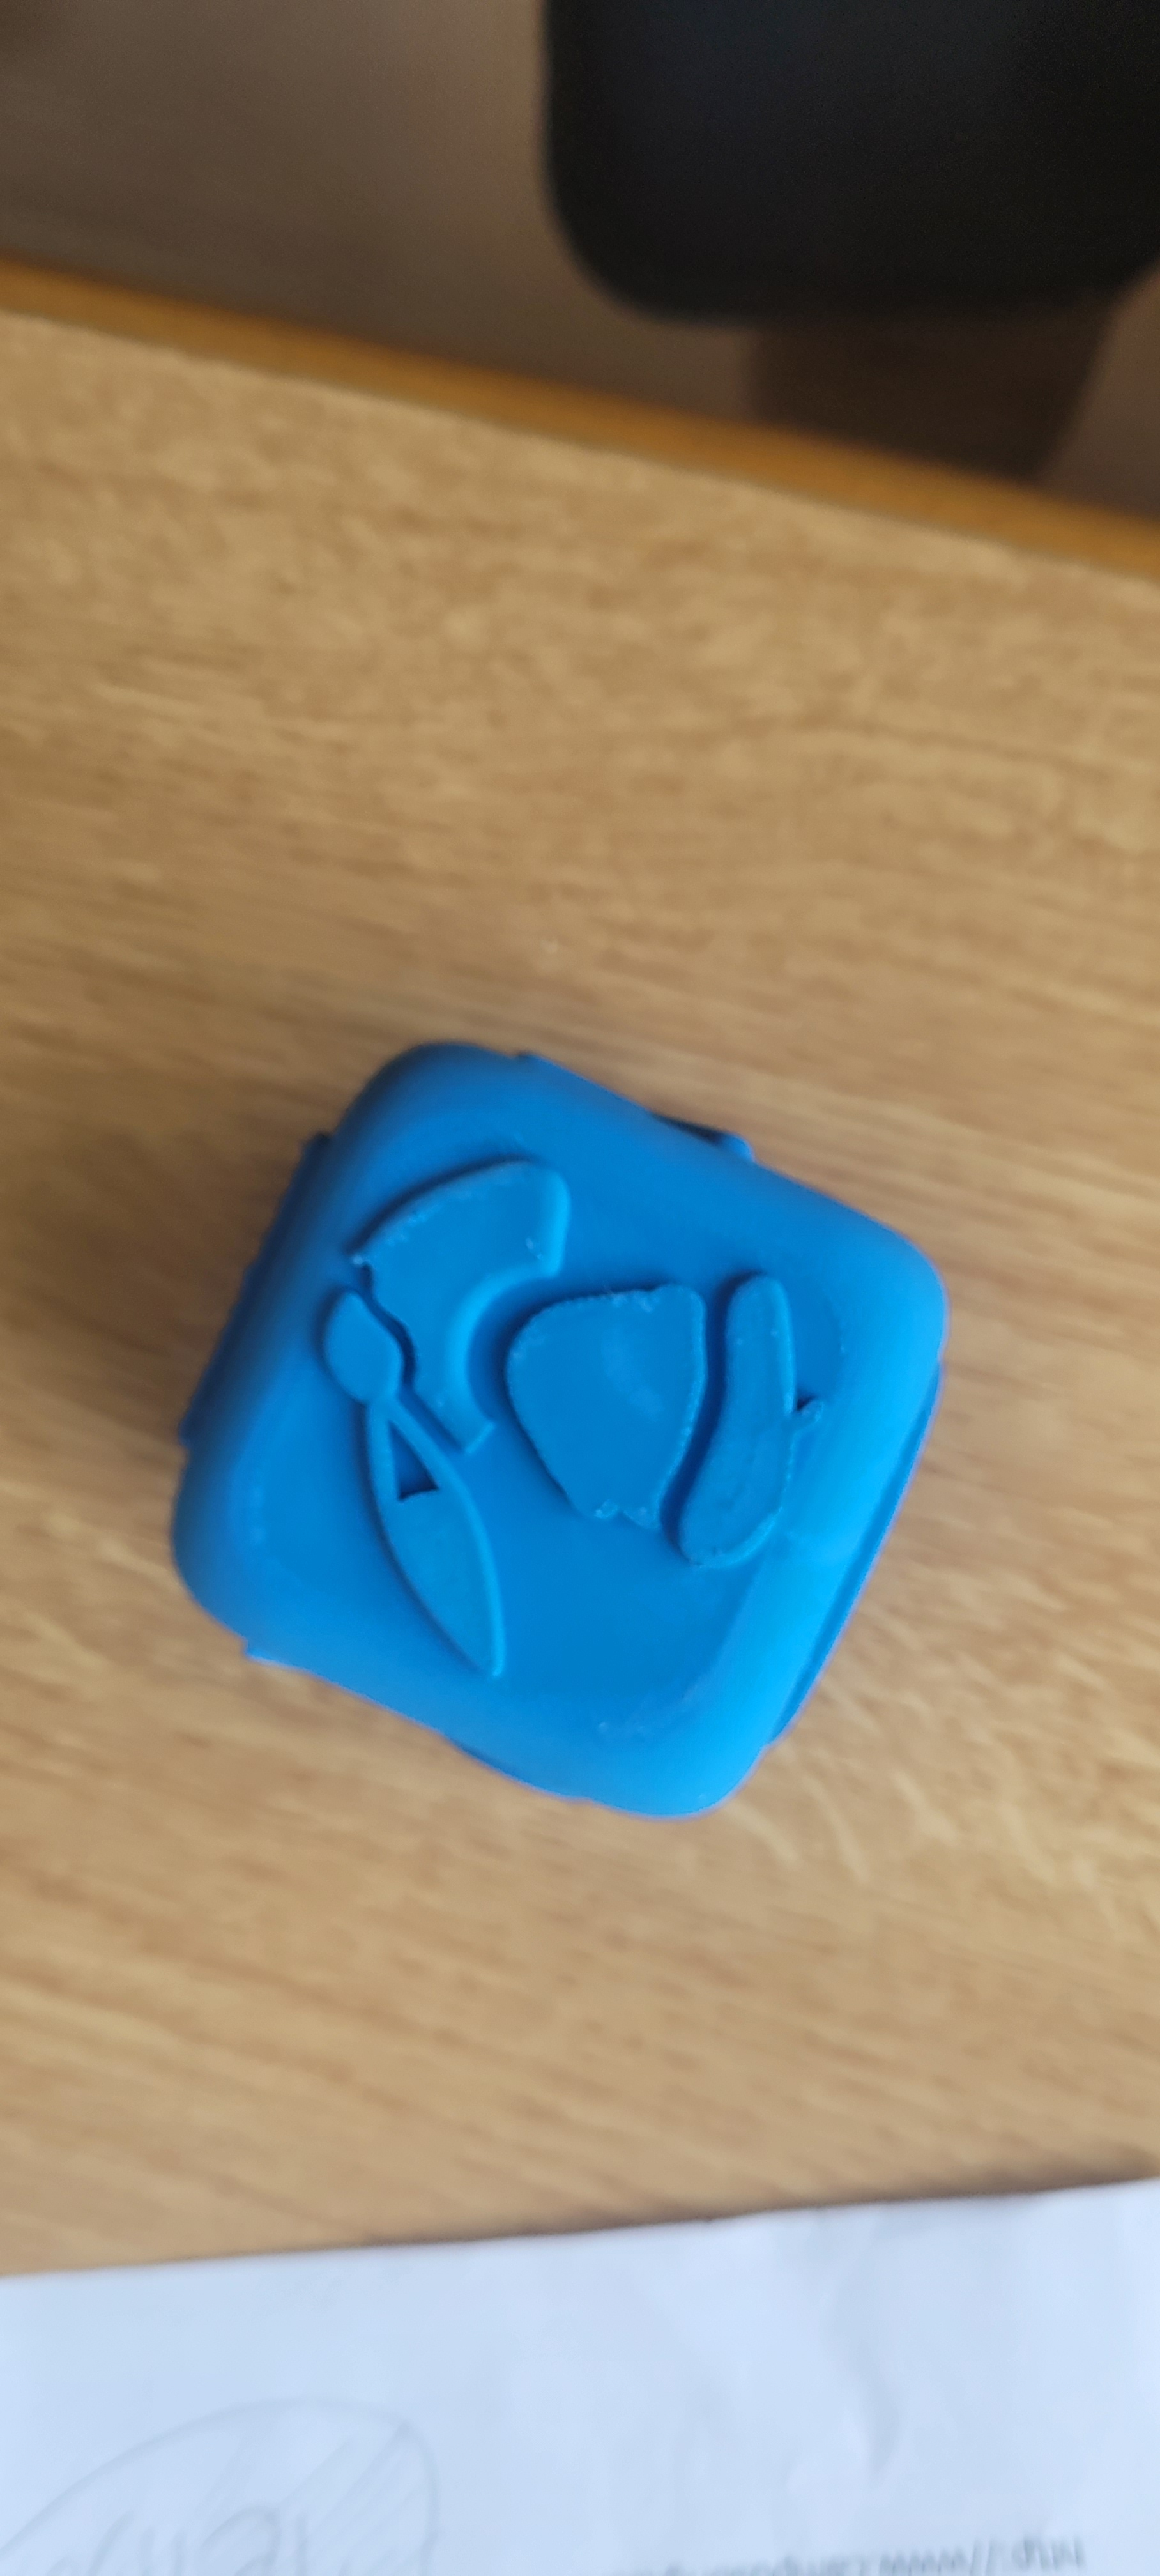Artist_Info: (184, 900, 914, 1778)
